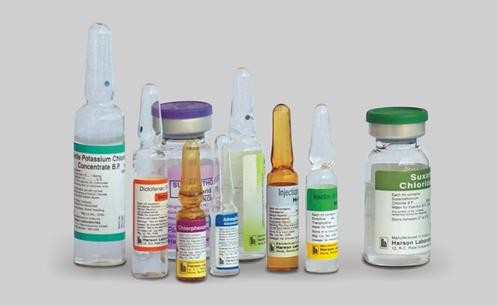Syringe: (64, 4, 132, 263), (356, 100, 440, 275), (301, 98, 343, 277), (130, 76, 166, 284), (262, 99, 301, 278), (173, 138, 210, 284), (206, 130, 240, 279)
